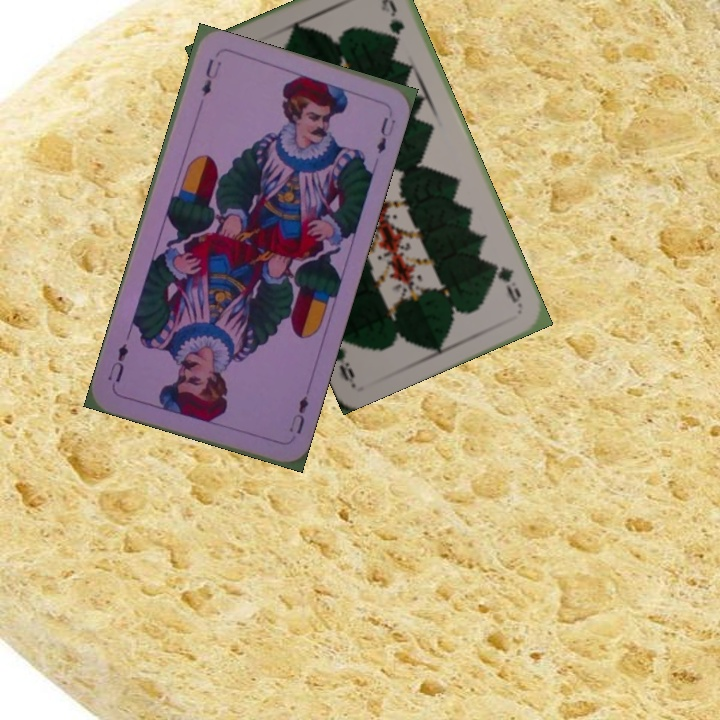EU: (285, 391, 311, 437), (197, 54, 223, 99)
G9: (488, 257, 525, 310)
